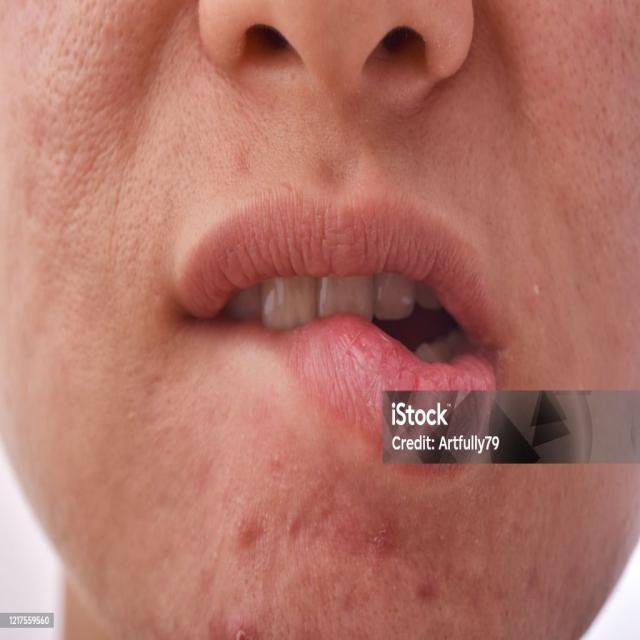papule: (224, 479, 279, 584), (399, 566, 451, 619)
